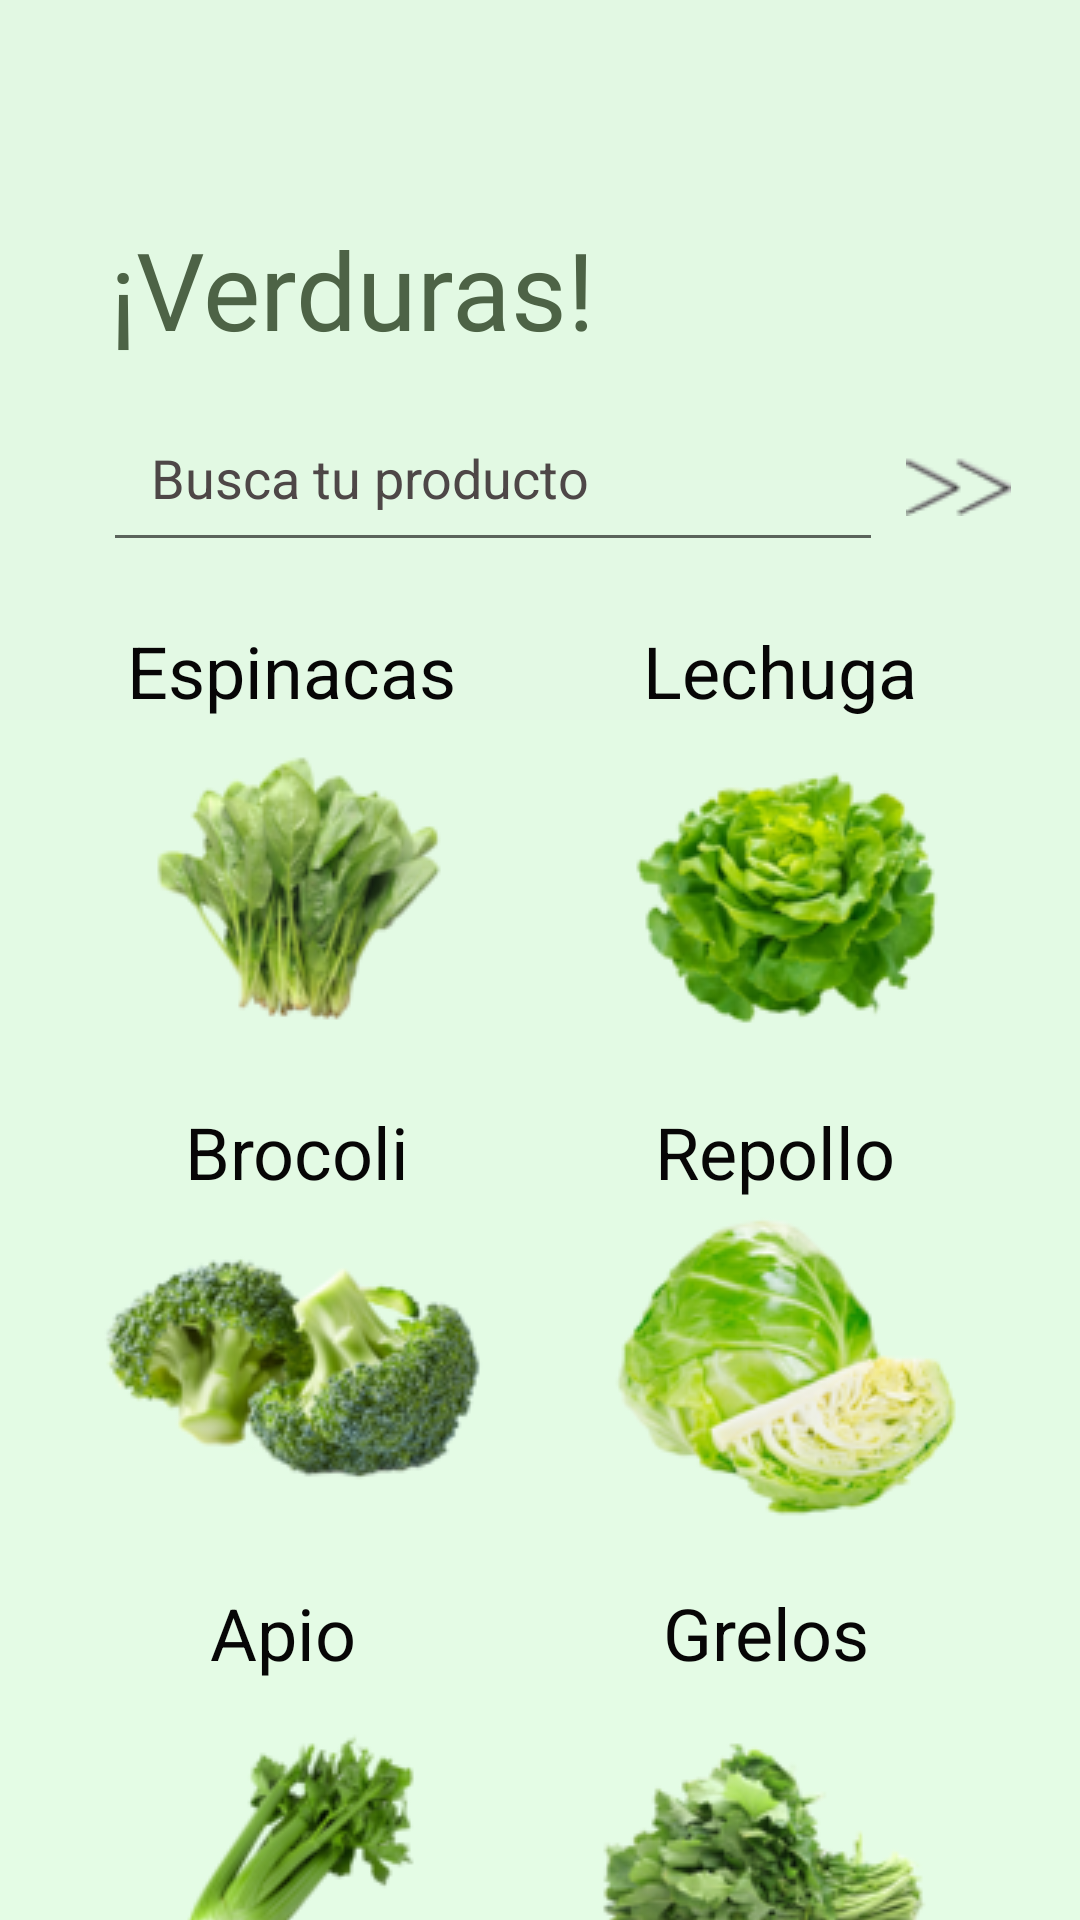

Where icons sit on this 1080px x 1920px app screen, as [x1,y1,x2,y2]:
Boton de flecha: [906,459,1011,516]
